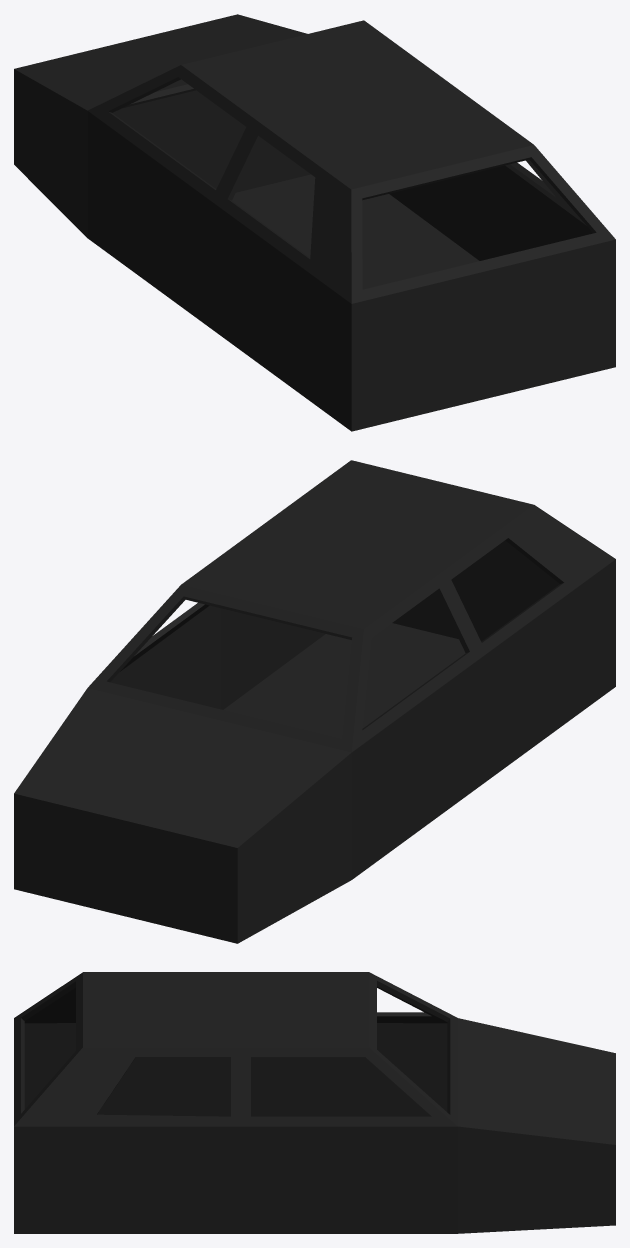
The model's file is hatchback.glb.
The picture shows the model from 3 angles, top to bottom: view 1: azimuth 30°, elevation 25°; view 2: azimuth 150°, elevation 25°; view 3: azimuth 270°, elevation 25°; orthographic projection. The views are drawn at different scales.
Visible parts, largest first — view 1: vehicles/hatchback; view 2: vehicles/hatchback; view 3: vehicles/hatchback.
Part boxes in pixels (box(x1,y1,x2,y2)): vehicles/hatchback: box(14, 14, 615, 431); vehicles/hatchback: box(14, 460, 615, 943); vehicles/hatchback: box(14, 972, 615, 1233).
Size of the model in its own units: 1.62 by 1.19 by 3.81.
2 materials, 2 textured.
